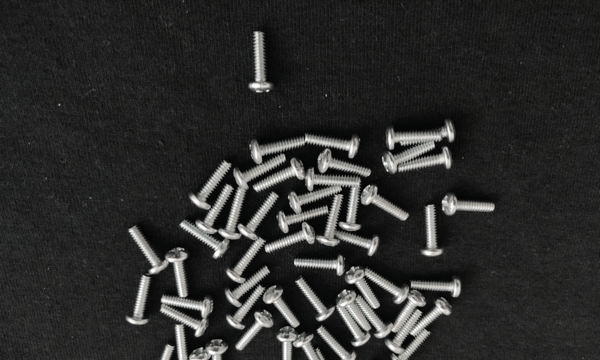shortscrew: (189, 160, 232, 210), (128, 226, 170, 275), (180, 220, 230, 260), (252, 157, 306, 193), (296, 276, 337, 323), (234, 153, 287, 189), (196, 184, 234, 234), (226, 237, 266, 284), (382, 142, 437, 176), (360, 184, 410, 221), (226, 285, 266, 331), (225, 267, 271, 307), (235, 309, 275, 352), (410, 297, 453, 337), (385, 309, 423, 354), (248, 31, 275, 94), (355, 295, 392, 340), (249, 135, 306, 164), (159, 305, 209, 338), (264, 222, 317, 253), (385, 123, 443, 151), (318, 148, 372, 178), (288, 185, 343, 214), (316, 193, 345, 248), (400, 144, 455, 173), (337, 303, 372, 348), (277, 204, 329, 234), (305, 132, 362, 159), (337, 289, 372, 332), (306, 167, 362, 193), (317, 326, 357, 360), (125, 275, 151, 326), (161, 294, 214, 319), (336, 229, 382, 256), (165, 249, 190, 298), (338, 184, 364, 231), (294, 254, 347, 277), (391, 330, 431, 360), (442, 194, 495, 216), (411, 276, 461, 299), (421, 203, 441, 258), (292, 332, 328, 360), (173, 323, 195, 360), (277, 326, 297, 360), (145, 343, 176, 360), (206, 339, 228, 360), (189, 347, 214, 360)
